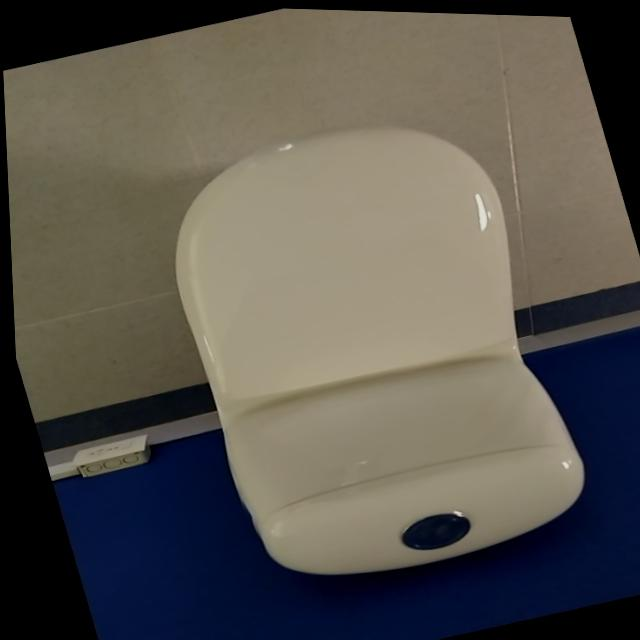toilet: (138, 86, 601, 606)
